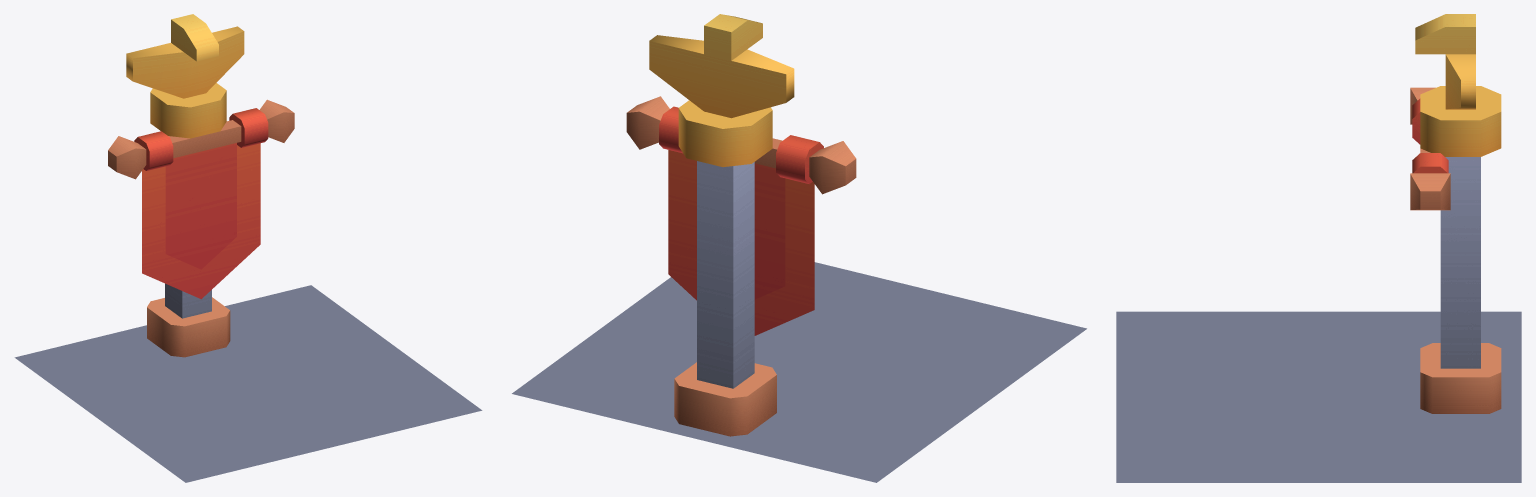
The model's file is floor_banner.glb.
The picture shows the model from 3 angles, left to right: view 1: azimuth 30°, elevation 25°; view 2: azimuth 150°, elevation 25°; view 3: azimuth 270°, elevation 25°; orthographic projection. The views are drawn at different scales.
Visible parts, largest first — view 1: banner; view 2: banner; view 3: banner.
Part boxes in pixels (bbox=[...]): banner: bbox=[14, 14, 482, 482]; banner: bbox=[512, 14, 1086, 482]; banner: bbox=[1116, 14, 1521, 482].
Size of the model in its own units: 1 by 1.03 by 1.
Materials: 2 (2 with a texture image).
